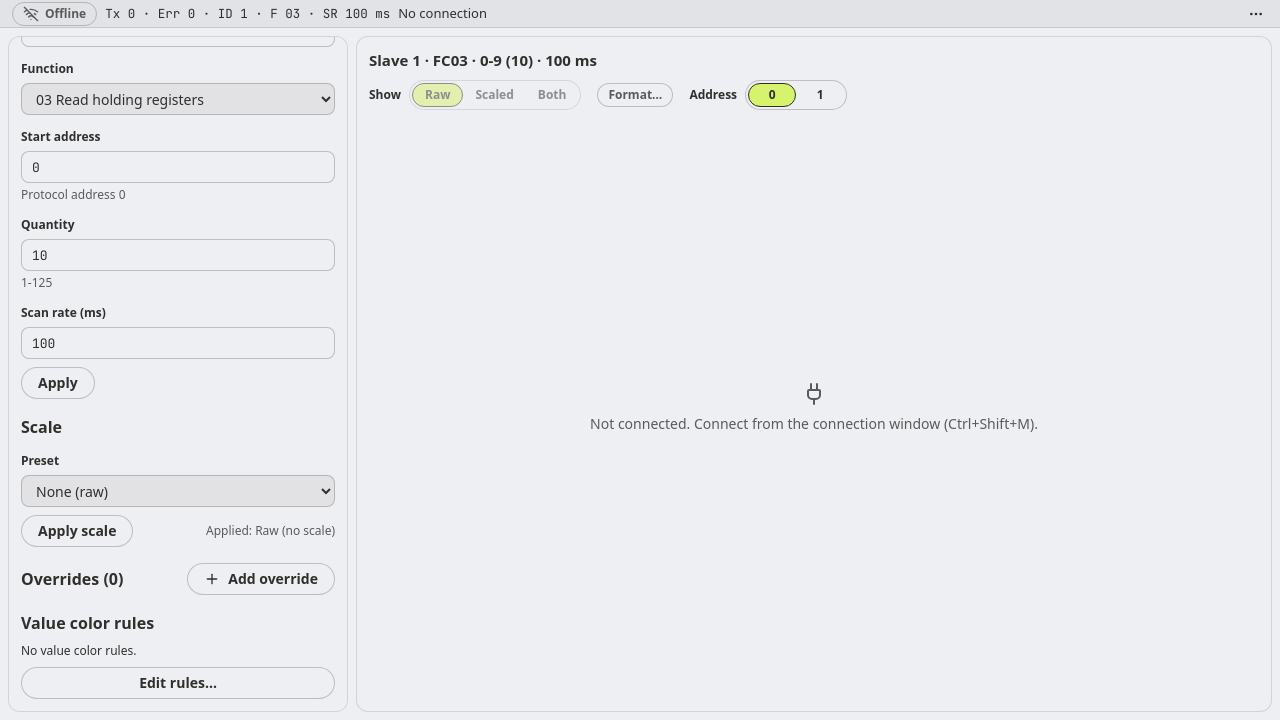
Scenario: validates drafts, retains last applied list on IPC failure, and cancels with focus return
(page scrolled)
Click the button "Edit rules…".
click(178, 683)  # box [21,667,335,699]
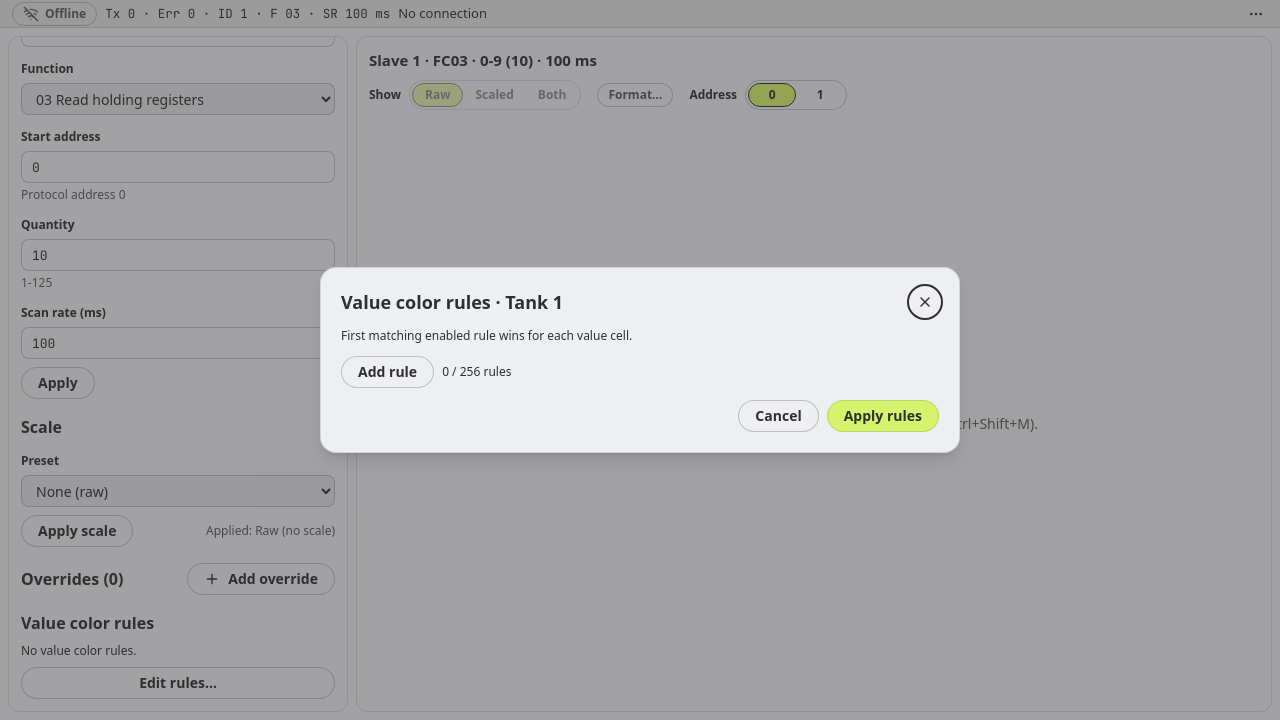
Click the button "Add rule".
click(388, 372)  # box [341,356,434,388]
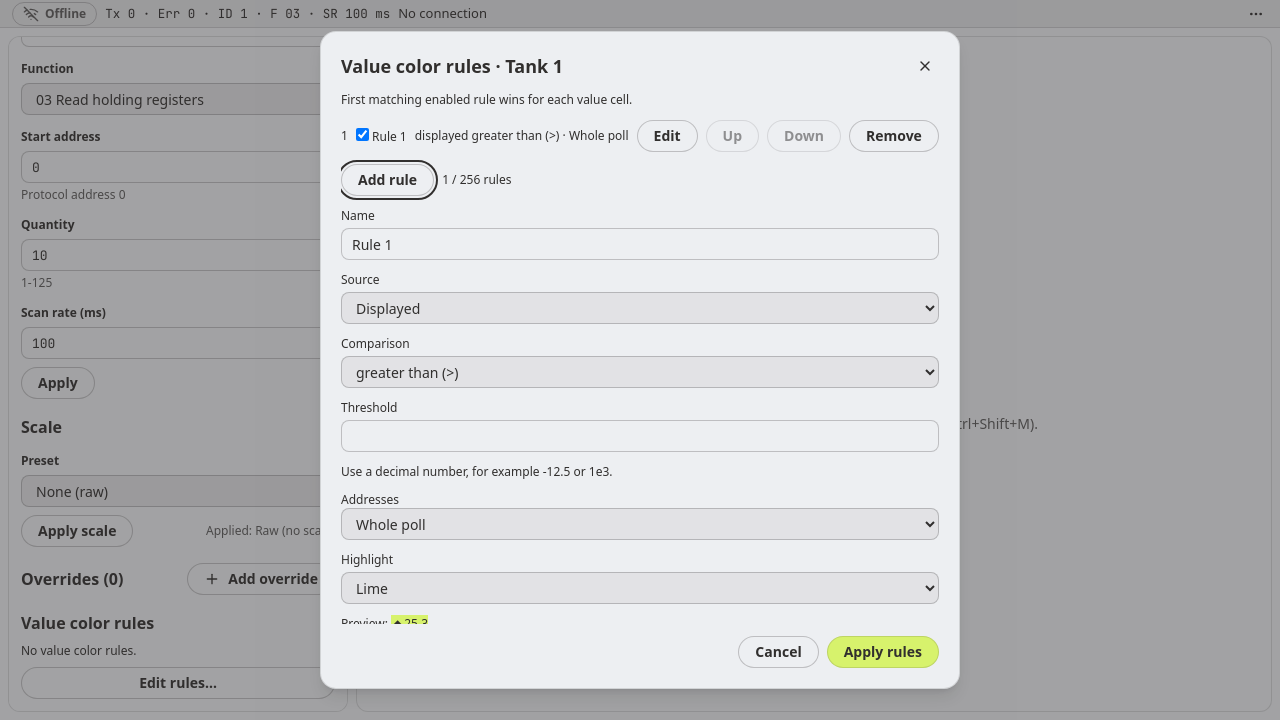
Click the button "Apply rules".
click(883, 652)  # box [827,636,939,668]
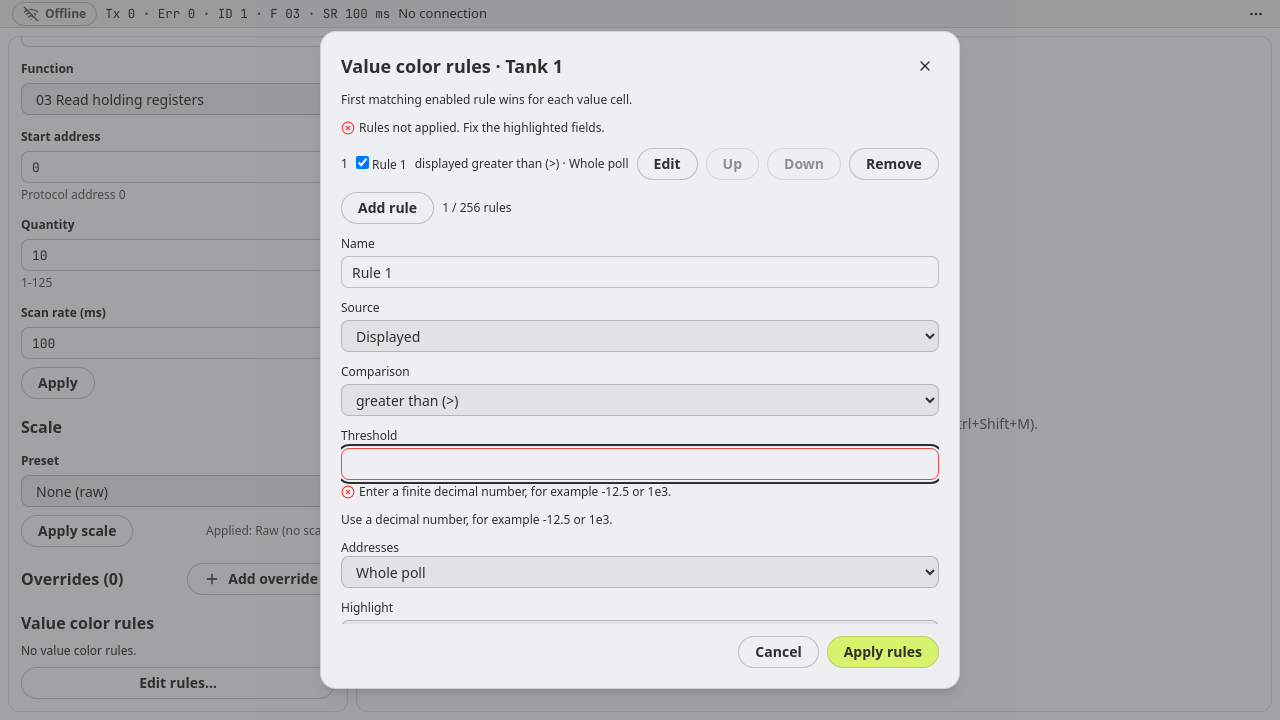
Now the text "Rules not applied. Fix the highlighted fields." is shown, box [359,120,605,136]
Type "25" into the field labelled "Threshold".
click(640, 464); type("25")  # box [341,448,939,480]
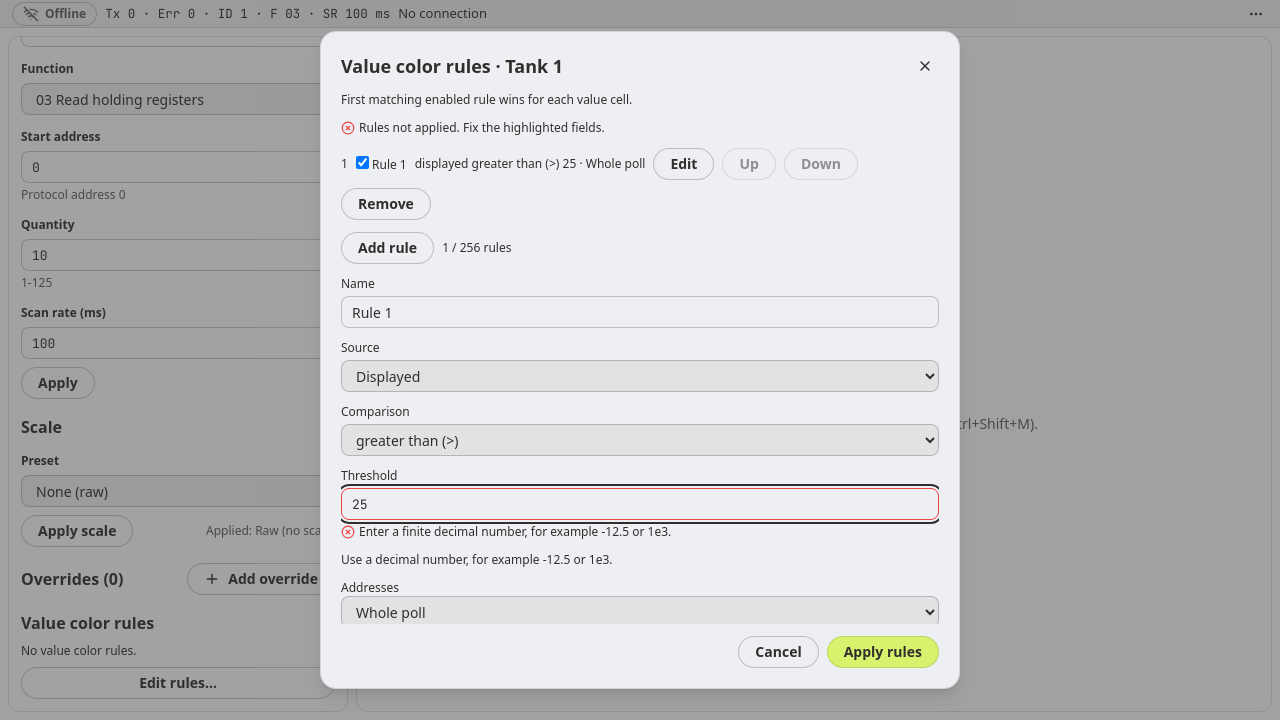
Click the button "Apply rules".
click(883, 652)  # box [827,636,939,668]
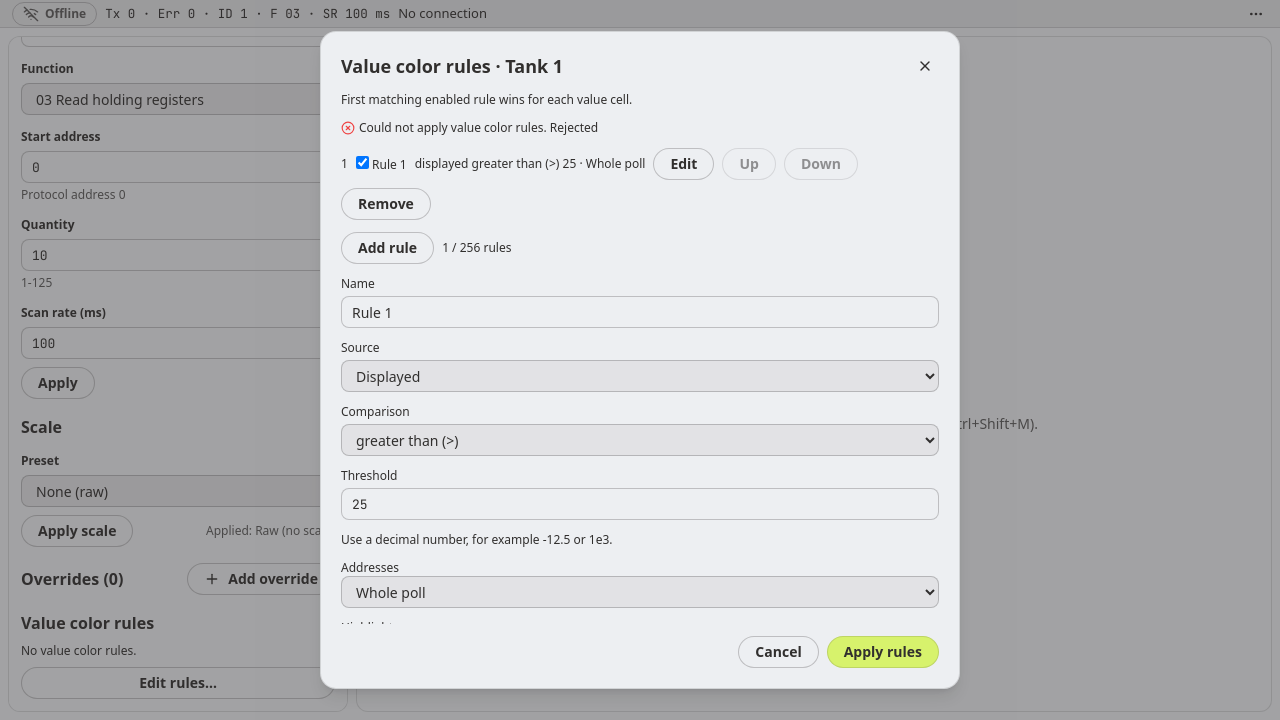
Now the text "Could not apply value color rules. Rejected" is shown, box [359,120,598,136]
Click the button "Cancel".
click(779, 652)  # box [738,636,819,668]
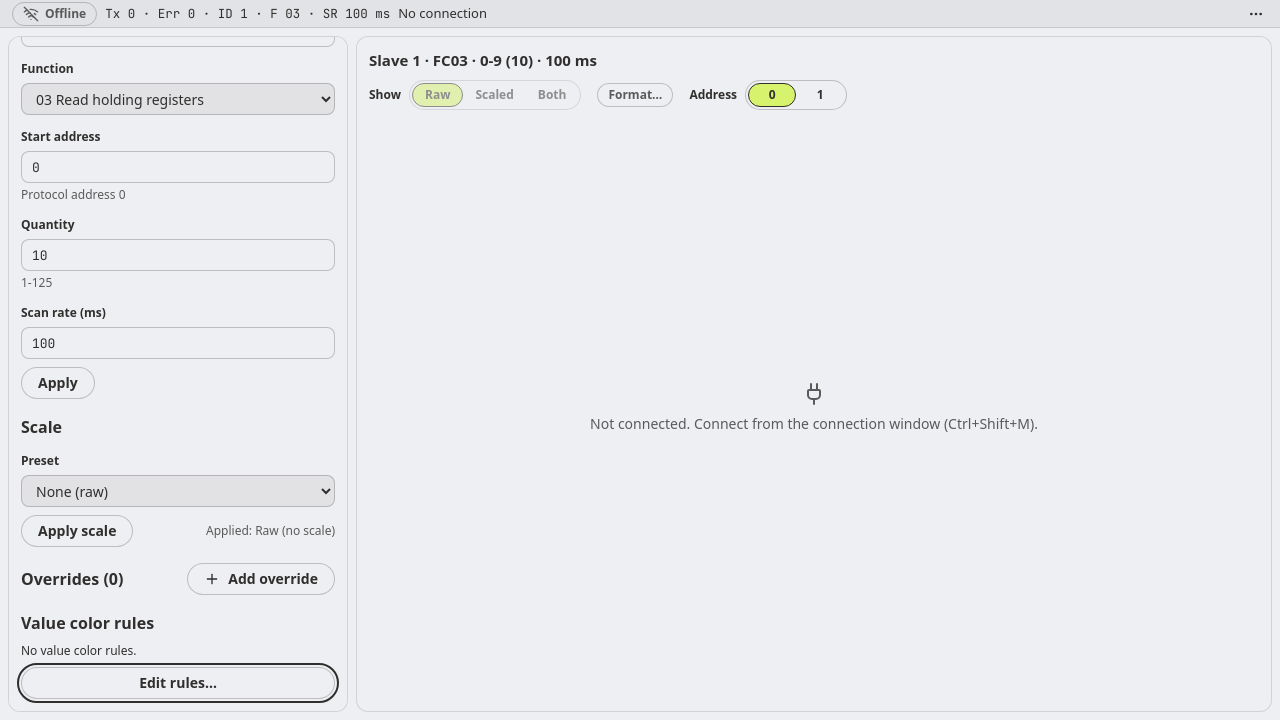
Now the dialog is gone
